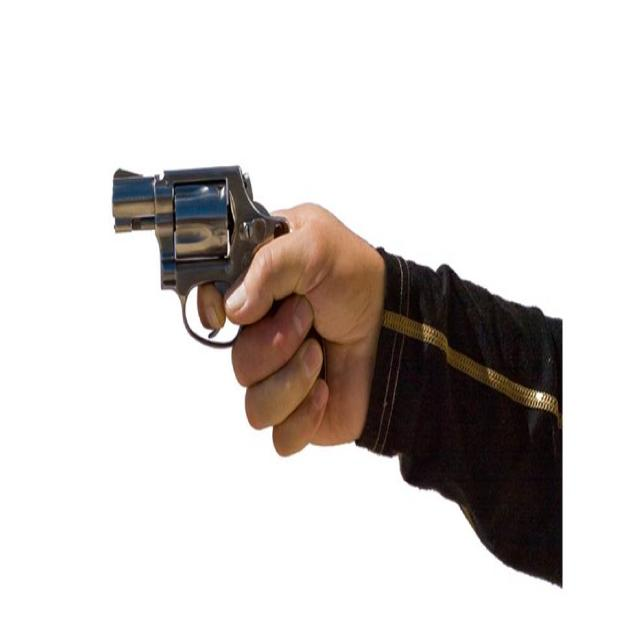HandGun: (112, 166, 290, 346)
